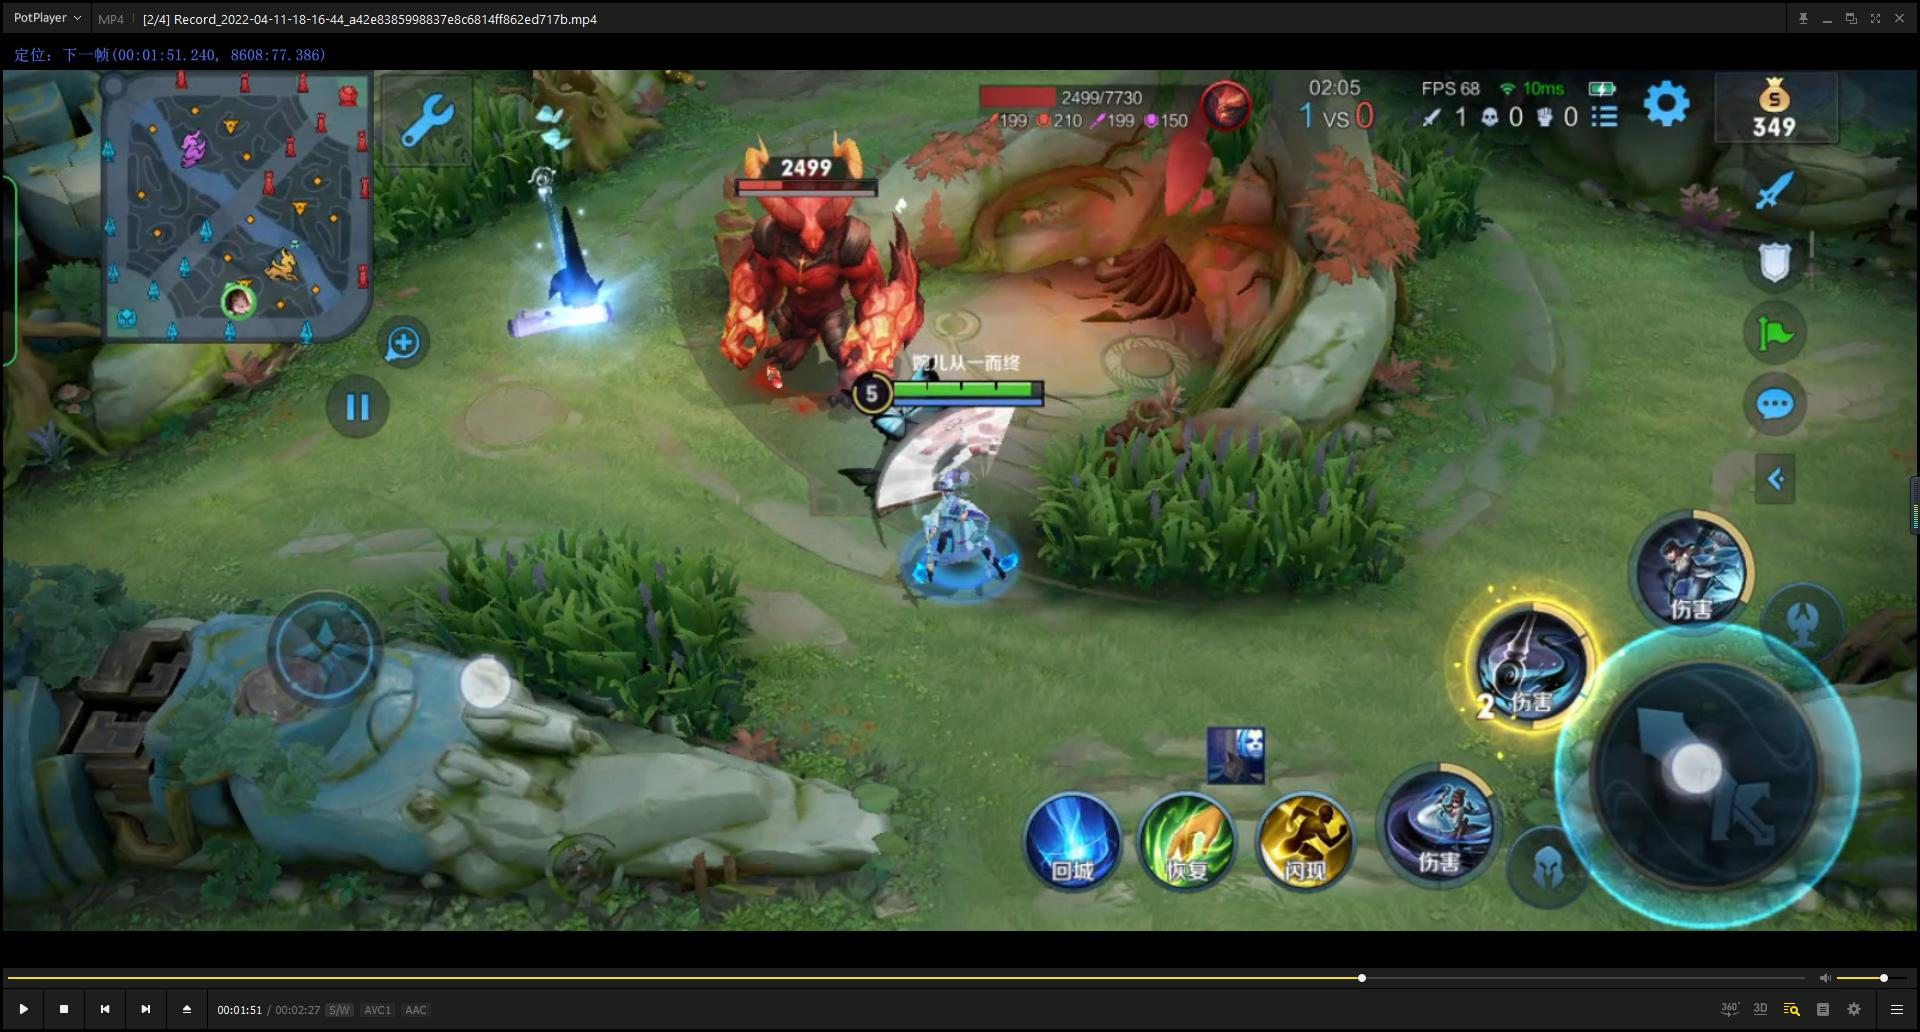Buff: (706, 125, 956, 450)
Hero: (849, 419, 1038, 613)
